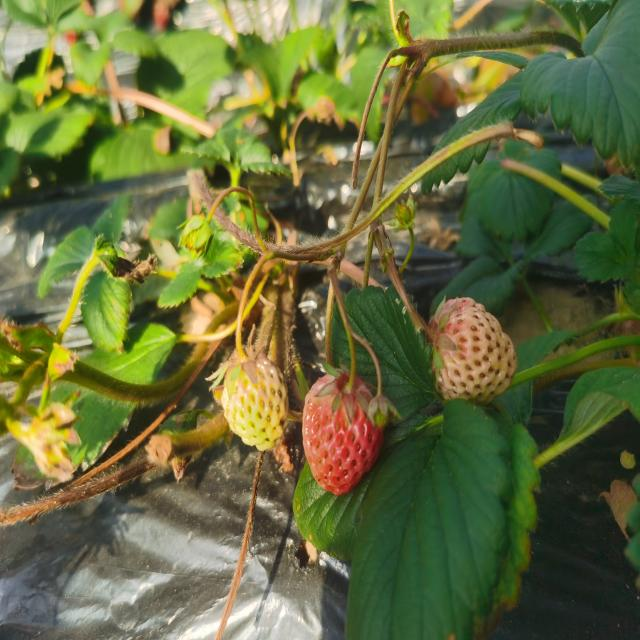stem: (344, 338, 356, 397)
strawberry: (302, 369, 384, 495)
